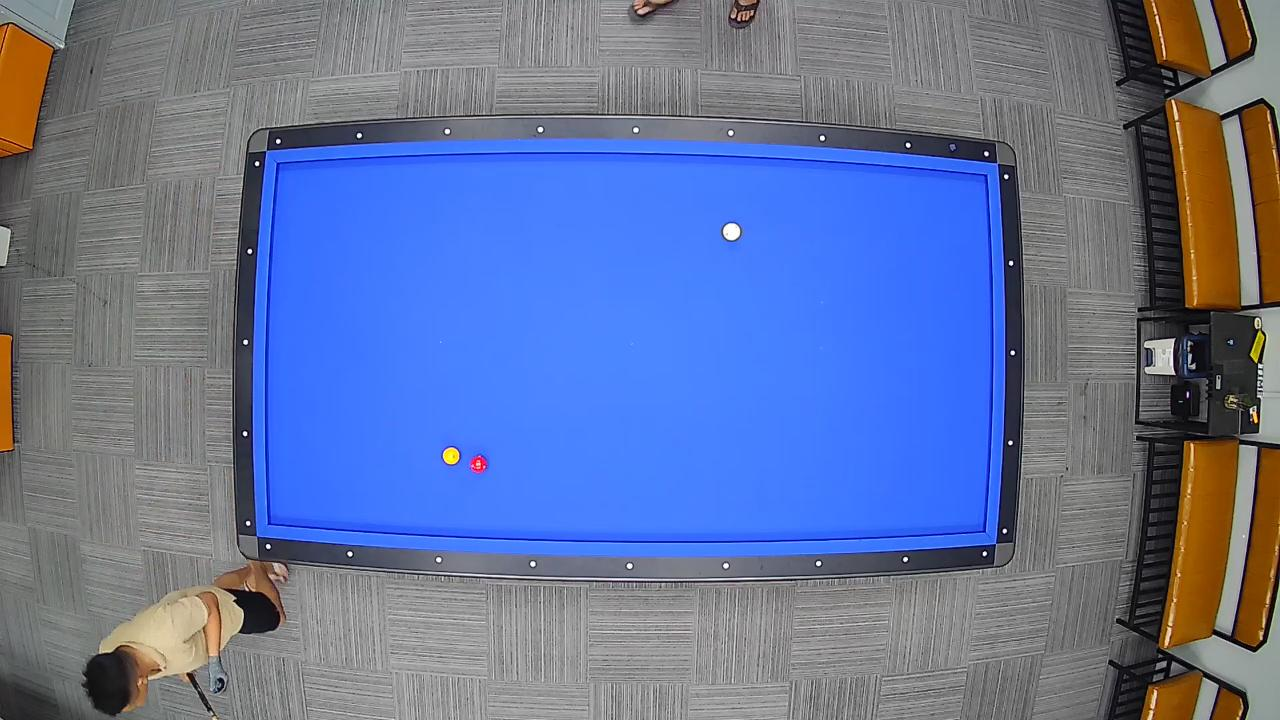Red: (469, 454, 489, 475)
White: (721, 222, 743, 243)
Yellow: (441, 446, 461, 466)
